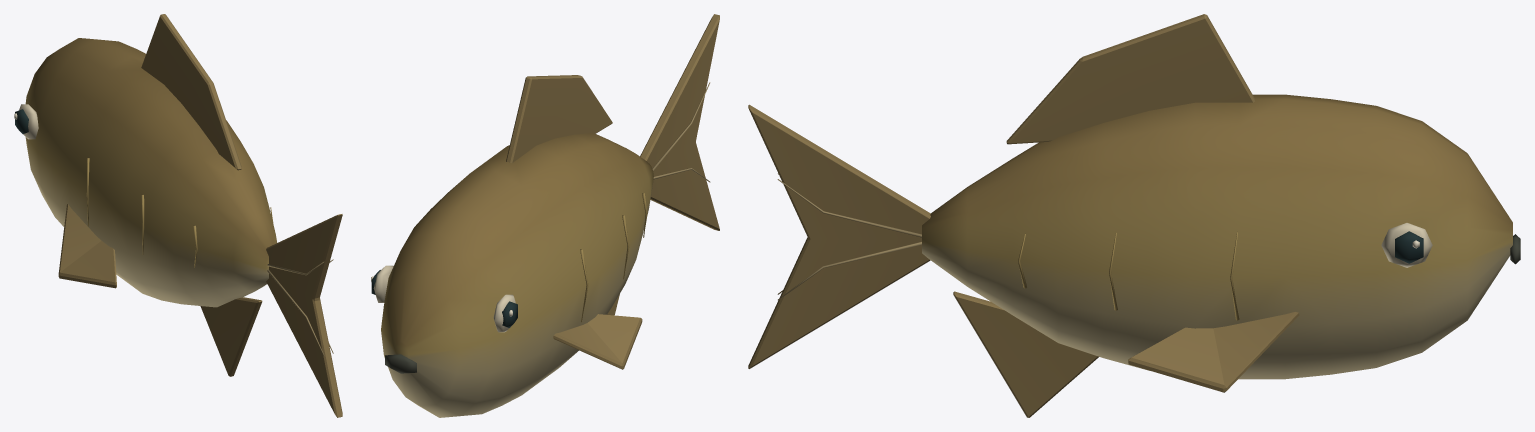
Rendered from fish_crucian_carp.glb.
3 renders of one model, left to right at view 1: azimuth 30°, elevation 25°; view 2: azimuth 150°, elevation 25°; view 3: azimuth 270°, elevation 25°, orthographic. The views are drawn at different scales.
Bounding box in the file's own units: 0.089 × 0.1377 × 0.2398.
